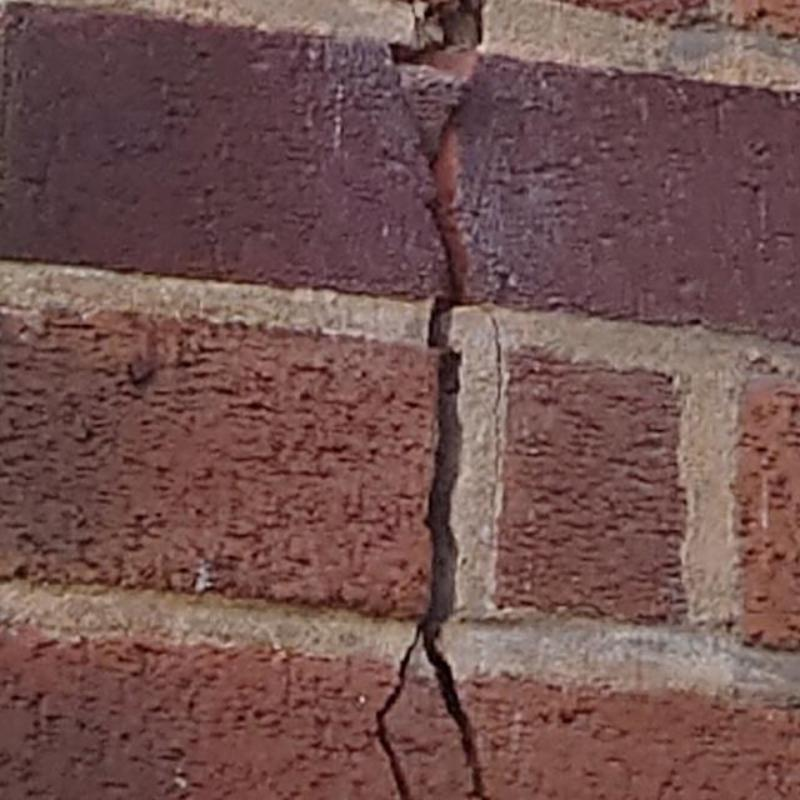pothole: (377, 125, 488, 799), (394, 0, 483, 80), (490, 315, 503, 535), (408, 0, 421, 49)
